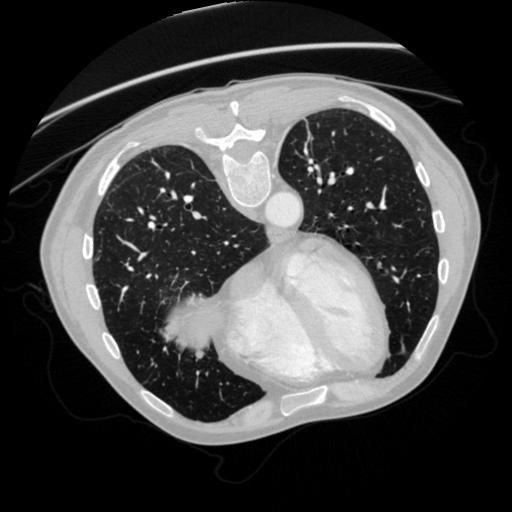nodule: (192, 350, 205, 363)
